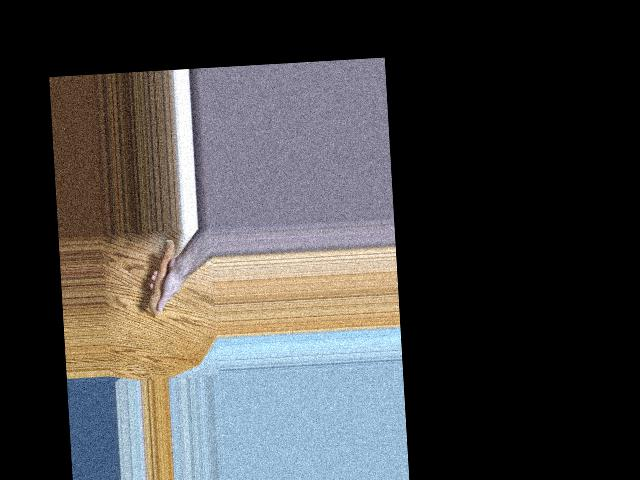sweet_potato: (142, 238, 181, 315)
